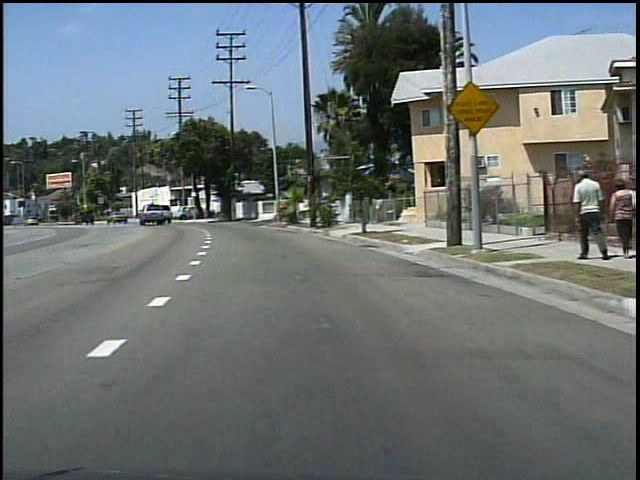person: (564, 166, 607, 262), (599, 177, 636, 254)
